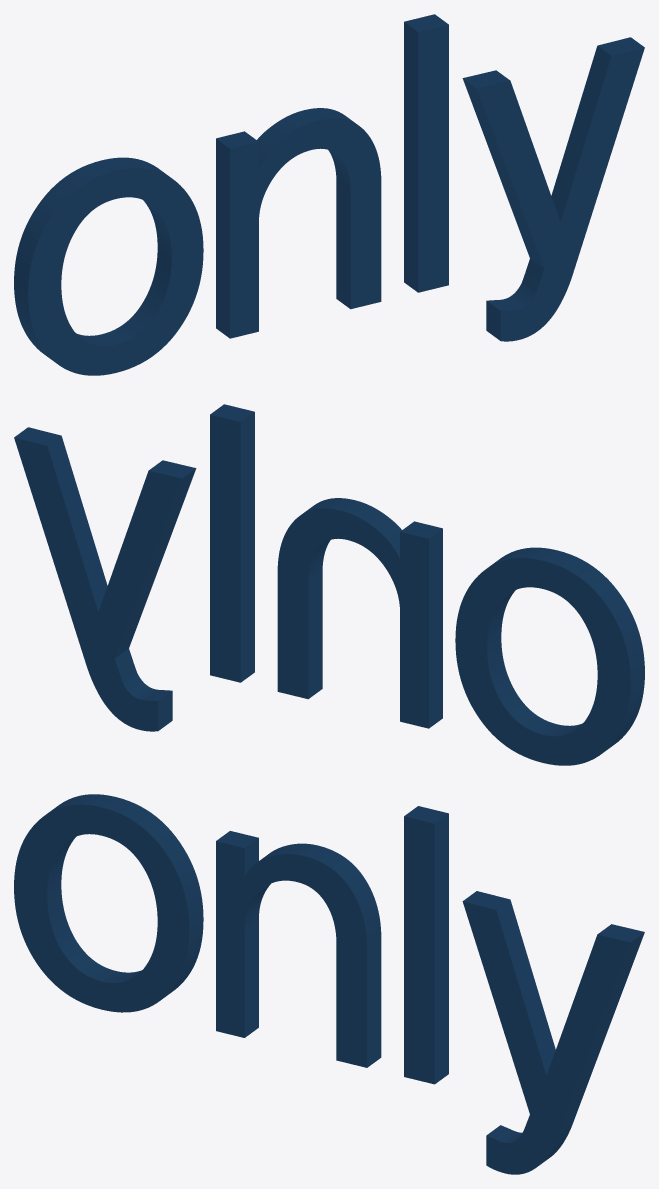
The model's file is only.gltf.
The picture shows the model from 3 angles, top to bottom: view 1: azimuth 30°, elevation 25°; view 2: azimuth 150°, elevation 25°; view 3: azimuth 330°, elevation 25°; orthographic projection.
Size of the model in its own units: 2.51 by 1.29 by 0.1.
